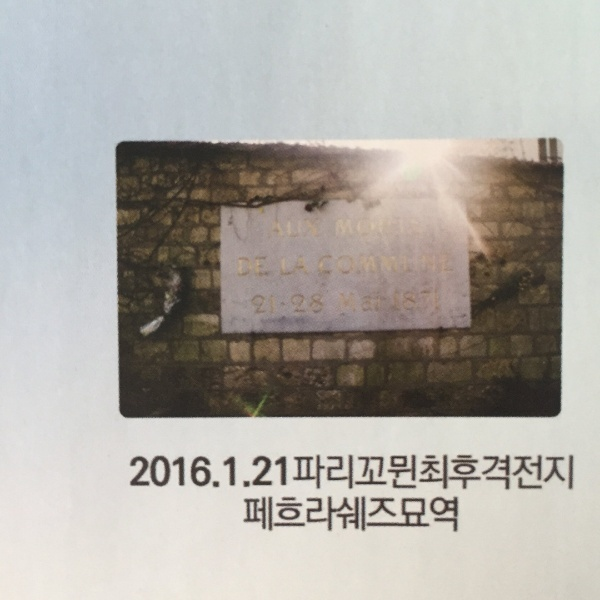text: (129, 451, 144, 496), (145, 451, 160, 496), (161, 451, 176, 496), (177, 451, 192, 496), (193, 451, 208, 496), (209, 451, 224, 496), (225, 451, 240, 496), (241, 451, 256, 496), (257, 451, 272, 496), (273, 451, 288, 496), (289, 451, 304, 496), (305, 451, 320, 496), (321, 451, 336, 496), (337, 451, 352, 496), (353, 451, 368, 496), (369, 451, 384, 496), (385, 451, 400, 496), (401, 451, 416, 496), (417, 451, 432, 496), (433, 451, 448, 496), (449, 451, 464, 496), (465, 451, 480, 496), (481, 451, 496, 496), (497, 451, 512, 496), (513, 451, 528, 496), (529, 451, 544, 496), (545, 451, 560, 496), (561, 451, 576, 496), (257, 494, 272, 537), (273, 494, 288, 537), (289, 494, 304, 537), (305, 494, 320, 537), (321, 494, 336, 537), (337, 494, 352, 537), (353, 494, 368, 537), (369, 494, 384, 537), (385, 494, 400, 537), (401, 494, 416, 537), (417, 494, 432, 537), (433, 494, 448, 537), (243, 494, 256, 537), (321, 249, 336, 280), (337, 249, 352, 280), (353, 249, 368, 280), (369, 249, 384, 280), (385, 249, 400, 280), (401, 249, 416, 280), (417, 249, 432, 280), (433, 249, 448, 280), (353, 286, 368, 317), (369, 286, 384, 317), (385, 286, 400, 317), (401, 286, 416, 317), (417, 286, 432, 317), (449, 494, 459, 537), (337, 213, 352, 241), (353, 213, 368, 241), (369, 213, 384, 241), (385, 213, 400, 241), (401, 213, 416, 241), (417, 213, 432, 241), (433, 213, 448, 241), (241, 254, 256, 281), (257, 291, 272, 318), (273, 291, 288, 318), (289, 291, 304, 318), (305, 291, 320, 318), (339, 286, 352, 317), (449, 213, 463, 241), (273, 216, 288, 242), (289, 216, 304, 242), (305, 216, 320, 242), (289, 253, 304, 279), (257, 254, 271, 281), (433, 286, 441, 317), (279, 253, 288, 279), (449, 249, 455, 280), (250, 291, 256, 318), (305, 253, 311, 279), (321, 291, 325, 318), (269, 216, 272, 242), (318, 249, 320, 280), (334, 213, 336, 241), (238, 254, 240, 281)
